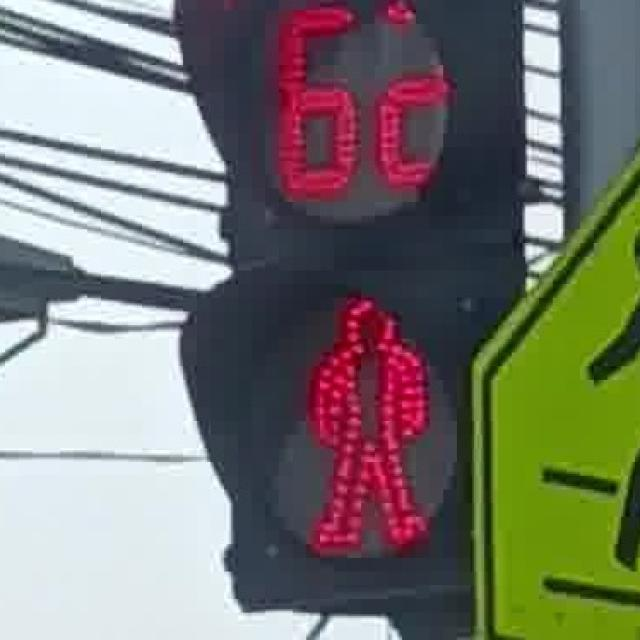red_light: (289, 282, 436, 565)
